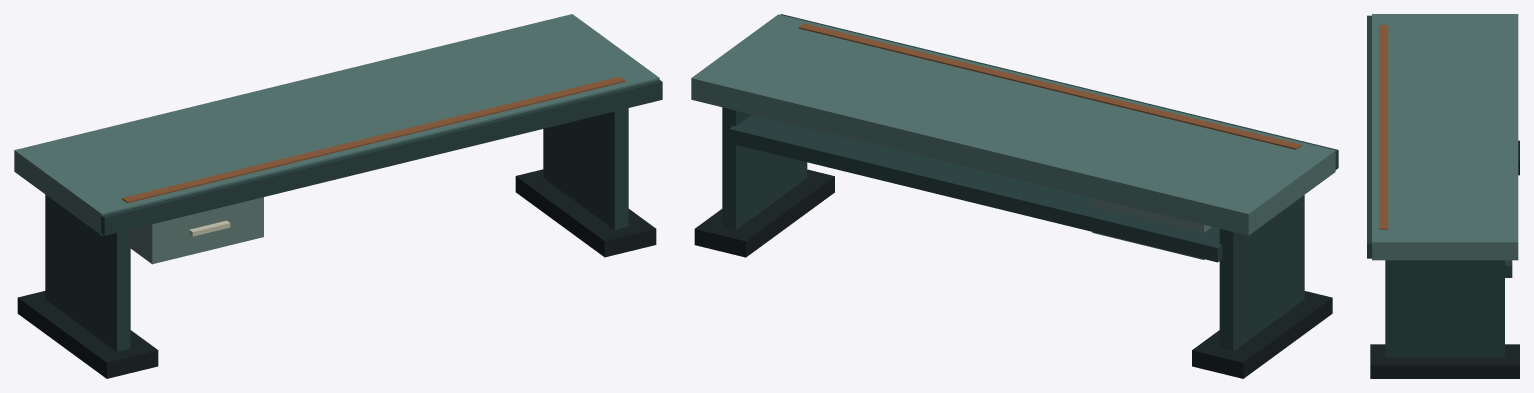
Rendered from workdesk.glb.
The picture shows the model from 3 angles, left to right: view 1: azimuth 30°, elevation 25°; view 2: azimuth 150°, elevation 25°; view 3: azimuth 270°, elevation 25°; orthographic projection. The views are drawn at different scales.
Visible parts, largest first — view 1: desk_top, desk_front_lip, leg_-1.45, leg_1.45, underdesk_drawer, foot_-1.45, foot_1.45, desk_wear_strip; view 2: desk_top, cable_tray, leg_-1.45, leg_1.45, foot_1.45, foot_-1.45, desk_wear_strip, underdesk_drawer, desk_front_lip; view 3: desk_top, leg_1.45, foot_1.45, desk_wear_strip, desk_front_lip, cable_tray.
Part boxes in pixels (x1,y1,x2,y2): desk_top: [14, 14, 659, 235]; desk_front_lip: [100, 79, 662, 235]; leg_-1.45: [45, 194, 130, 351]; leg_1.45: [543, 108, 628, 229]; underdesk_drawer: [130, 197, 263, 264]; foot_-1.45: [17, 291, 158, 378]; foot_1.45: [515, 169, 656, 257]; desk_wear_strip: [122, 76, 625, 203]; desk_top: [691, 14, 1335, 235]; cable_tray: [729, 114, 1222, 262]; leg_-1.45: [1219, 195, 1304, 351]; leg_1.45: [722, 107, 807, 230]; foot_1.45: [694, 169, 834, 257]; foot_-1.45: [1192, 291, 1332, 378]; desk_wear_strip: [798, 23, 1301, 149]; underdesk_drawer: [1092, 197, 1211, 259]; desk_front_lip: [780, 14, 1338, 169]; desk_top: [1372, 14, 1518, 260]; leg_1.45: [1385, 260, 1504, 357]; foot_1.45: [1370, 344, 1519, 378]; desk_wear_strip: [1379, 25, 1388, 229]; desk_front_lip: [1367, 15, 1373, 258]; cable_tray: [1505, 260, 1512, 277].
Size of the model in its own units: 3.25 by 0.929 by 0.92.
